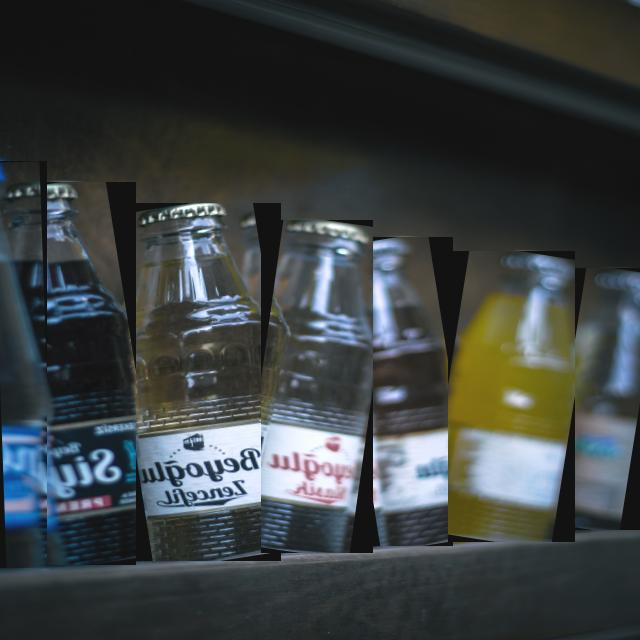Bottle: (126, 204, 279, 560), (10, 182, 134, 565), (447, 251, 574, 542), (260, 221, 371, 552), (356, 237, 452, 546), (566, 269, 639, 529), (0, 161, 45, 567)
